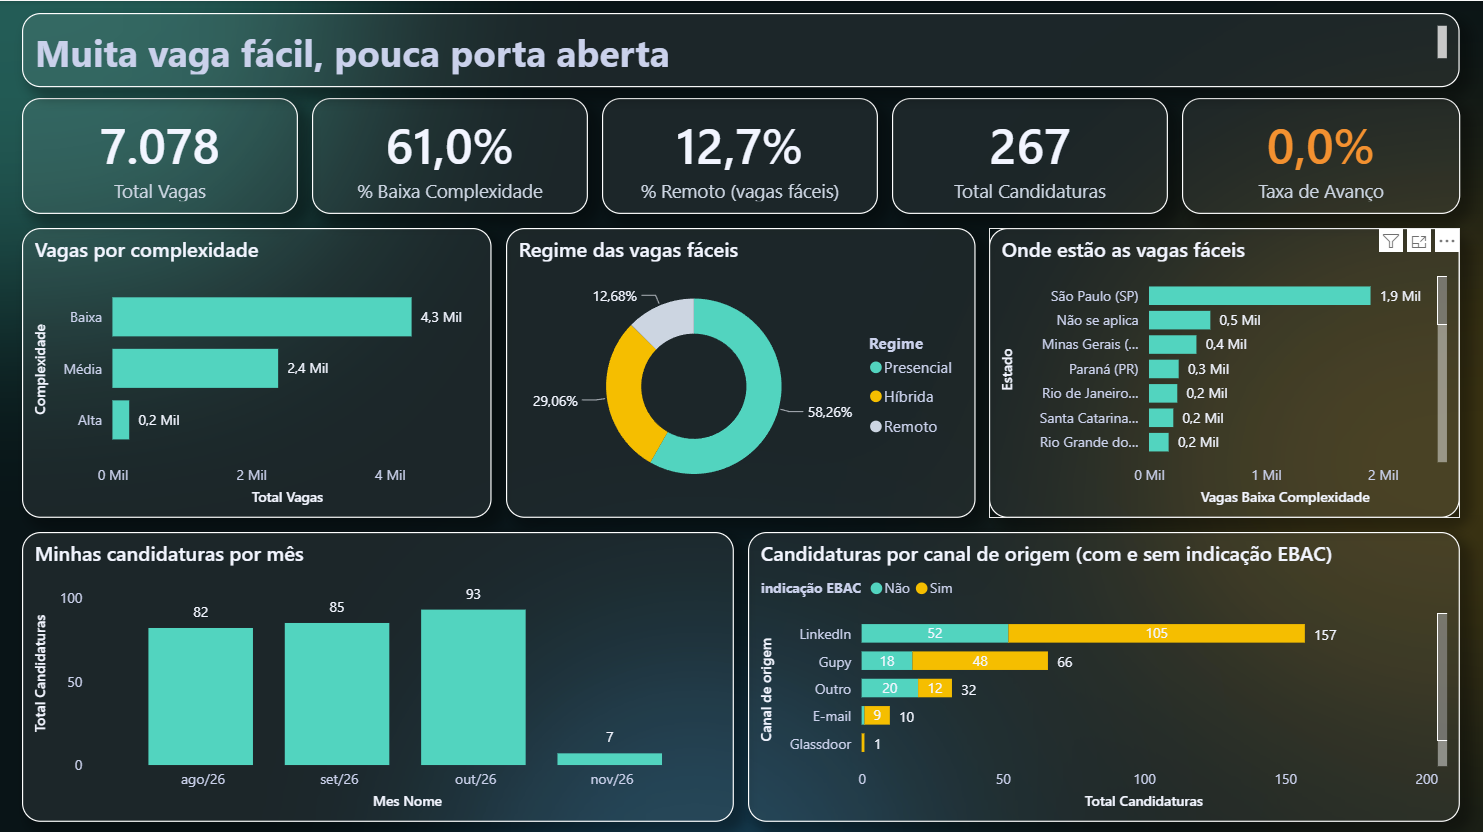

The dashboard page shown, as its layout file describes it:
{"tool":"powerbi","page":{"name":"Página 1","canvas":[1280,720],"ordinal":0},"visuals":[{"type":"card","fields":{"Values":["vagas_limpas.Total Vagas"]},"box":[20,84,238,100],"z":0},{"type":"card","fields":{"Values":["vagas_limpas.% Baixa Complexidade"]},"box":[270,84,238,100],"z":1},{"type":"card","fields":{"Values":["vagas_limpas.% Remoto (vagas fáceis)"]},"box":[520,84,238,100],"z":2},{"type":"card","fields":{"Values":["candidaturas_limpas.Total Candidaturas"]},"box":[770,84,238,100],"z":3},{"type":"card","fields":{"Values":["candidaturas_limpas.Taxa de Avanço"]},"box":[1020,84,240,100],"z":4},{"type":"clusteredBarChart","title":"Vagas por complexidade","fields":{"Category":["vagas_limpas.Complexidade"],"Y":["vagas_limpas.Total Vagas"]},"box":[20,196,405,250],"z":5},{"type":"donutChart","title":"Regime das vagas fáceis","fields":{"Category":["vagas_limpas.Regime"],"Y":["vagas_limpas.Vagas Baixa Complexidade"]},"box":[437,196,405,250],"z":6},{"type":"clusteredBarChart","title":"Onde estão as vagas fáceis","fields":{"Category":["vagas_limpas.Estado"],"Y":["vagas_limpas.Vagas Baixa Complexidade"]},"box":[854,196,406,250],"z":7},{"type":"clusteredColumnChart","title":"Minhas candidaturas por mês","fields":{"Category":["dCalendario.Mes Nome"],"Y":["candidaturas_limpas.Total Candidaturas"]},"box":[20,458,614,250],"z":8},{"type":"barChart","title":"Candidaturas por canal de origem (com e sem indicação EBAC)","fields":{"Category":["candidaturas_limpas.Canal de origem"],"Y":["candidaturas_limpas.Total Candidaturas"],"Series":["candidaturas_limpas.indicação EBAC"]},"box":[646,458,614,250],"z":9},{"type":"textbox","box":[20,10,1240,64],"z":10}]}

Visuals, with their boxes in screenshot pixels (x1, y1, x2, y2), scaled from the page's 1280x720 canvas onto the 1483x832 screenshot:
card - vagas_limpas.Total Vagas: Rect(23, 97, 299, 213)
card - vagas_limpas.% Baixa Complexidade: Rect(313, 97, 589, 213)
card - vagas_limpas.% Remoto (vagas fáceis): Rect(602, 97, 878, 213)
card - candidaturas_limpas.Total Candidaturas: Rect(892, 97, 1168, 213)
card - candidaturas_limpas.Taxa de Avanço: Rect(1182, 97, 1460, 213)
"Vagas por complexidade" clusteredBarChart: Rect(23, 226, 492, 515)
"Regime das vagas fáceis" donutChart: Rect(506, 226, 976, 515)
"Onde estão as vagas fáceis" clusteredBarChart: Rect(989, 226, 1460, 515)
"Minhas candidaturas por mês" clusteredColumnChart: Rect(23, 529, 735, 818)
"Candidaturas por canal de origem (com e sem indicação EBAC)" barChart: Rect(748, 529, 1460, 818)
textbox: Rect(23, 12, 1460, 86)
